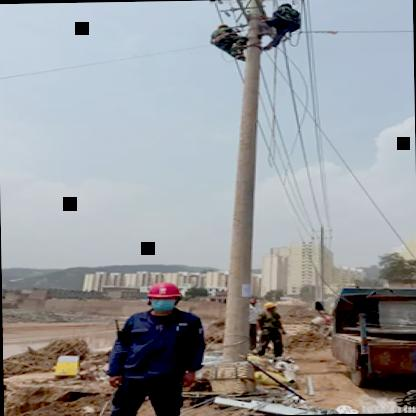helmet: (142, 279, 185, 314), (260, 297, 284, 316)
